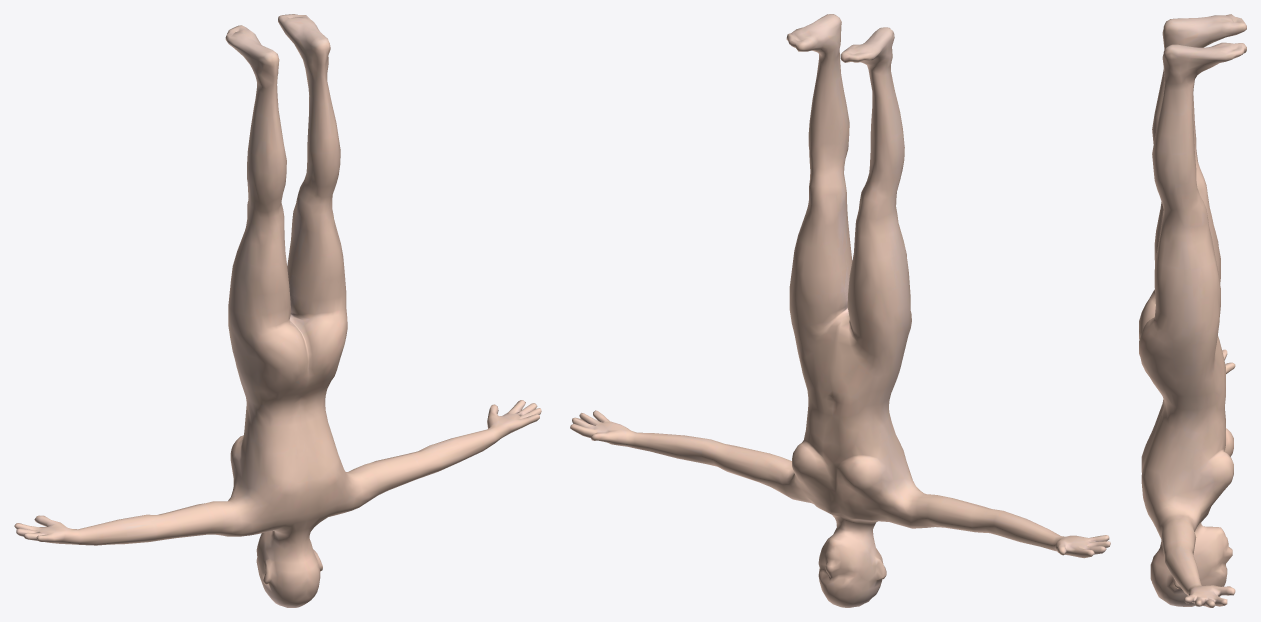
The model's file is base_female_with_skin_texture.glb.
The picture shows the model from 3 angles, left to right: view 1: azimuth 30°, elevation 25°; view 2: azimuth 150°, elevation 25°; view 3: azimuth 270°, elevation 25°; orthographic projection. The views are drawn at different scales.
Visible parts, largest first — view 1: base_base_female_with_skin_texture; view 2: base_base_female_with_skin_texture; view 3: base_base_female_with_skin_texture.
Part boxes in pixels (<box>): base_base_female_with_skin_texture: <box>14,14,541,607</box>; base_base_female_with_skin_texture: <box>570,14,1110,607</box>; base_base_female_with_skin_texture: <box>1139,14,1246,607</box>.
Bounding box in the file's own units: 1.69 × 1.75 × 0.2983.
Materials: 1 (1 with a texture image).
